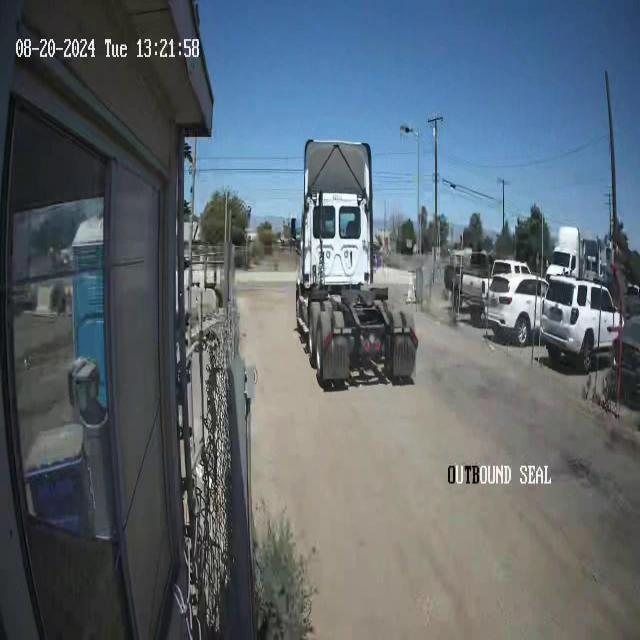TRUCK_OUT: (295, 137, 419, 387)
